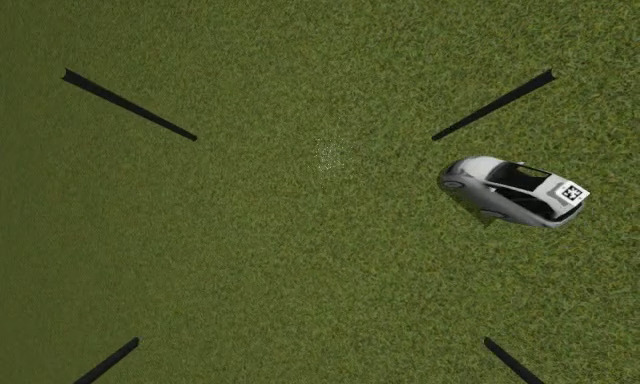Car: (435, 153, 592, 228)
Landing Pad: (555, 181, 591, 205)
